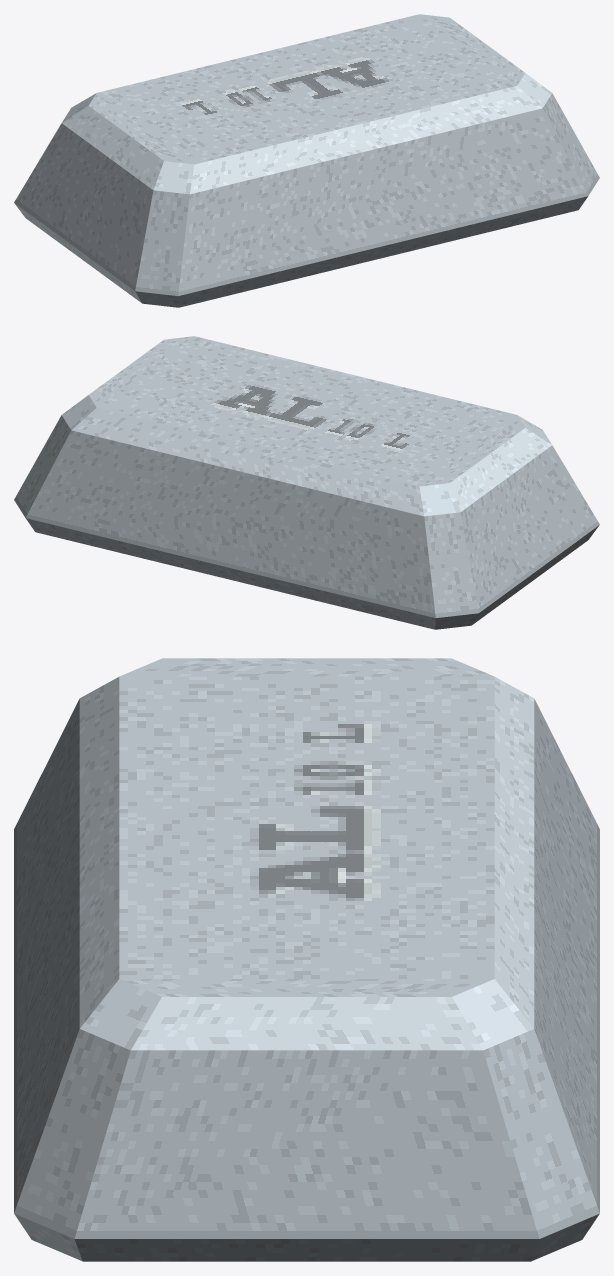
Rendered from 10l_aluminum.glb.
The picture shows the model from 3 angles, top to bottom: view 1: azimuth 30°, elevation 25°; view 2: azimuth 150°, elevation 25°; view 3: azimuth 270°, elevation 25°; orthographic projection. The views are drawn at different scales.
Parts seen in each view (by area): view 1: block_one-piece cast ingot; view 2: block_one-piece cast ingot; view 3: block_one-piece cast ingot.
Part boxes in pixels (bbox=[...]): block_one-piece cast ingot: bbox=[14, 14, 599, 307]; block_one-piece cast ingot: bbox=[14, 336, 599, 629]; block_one-piece cast ingot: bbox=[14, 658, 599, 1261].
Bounding box in the file's own units: 0.39 × 0.0939 × 0.2218.
Materials: 1 (1 with a texture image).
